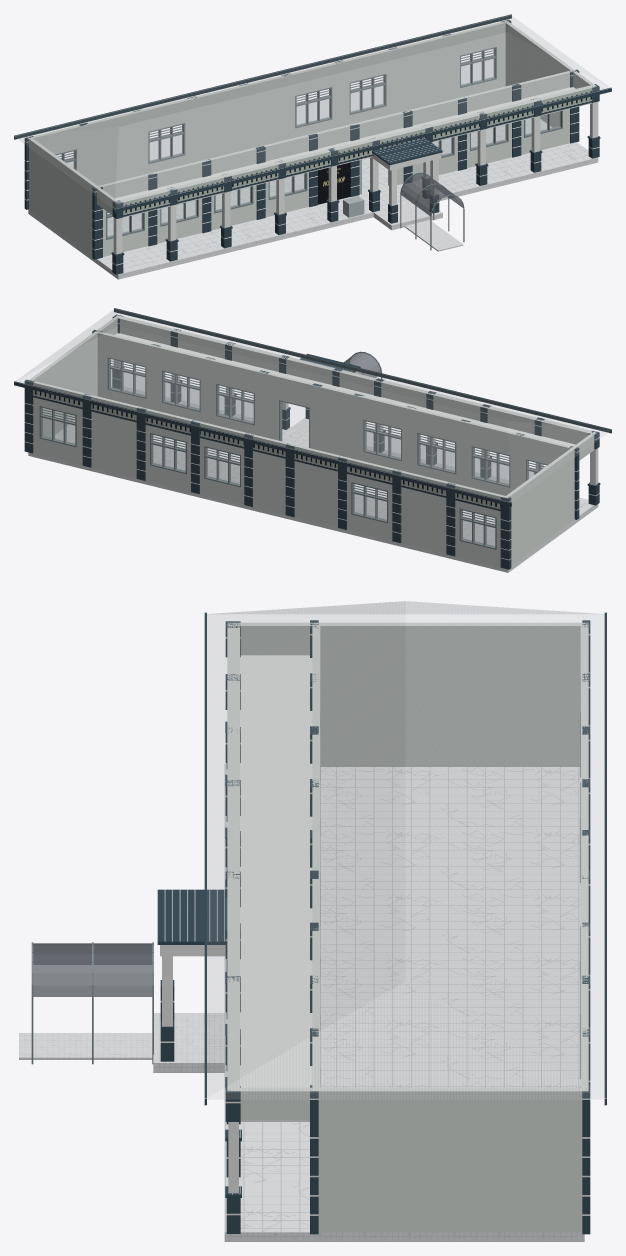
Rendered from gedung_lab_ulw_cutaway.glb.
3 renders of one model, top to bottom at view 1: azimuth 30°, elevation 25°; view 2: azimuth 150°, elevation 25°; view 3: azimuth 270°, elevation 25°, orthographic. The views are drawn at different scales.
Visible parts, largest first — view 1: Atap_Spandek_Abu_Terang, Dinding_Sage_Abu_ULW, Pilaster_Dan_Umpak_SlateBiru, Lantai_Marmer_Kosong_ULW, Tiang_Atas_Dan_Kanopi_Putih, Kusen_Jendela_Dan_Rangka_Pergola, Kaca_Jendela_Transparan, Lis_Ventilasi_Vertikal, Paranet_Terowongan_Taman, Papan_Granit_Hitam_WORKSHOP, Bangku_Beton_Teras; view 2: Dinding_Sage_Abu_ULW, Atap_Spandek_Abu_Terang, Pilaster_Dan_Umpak_SlateBiru, Kusen_Jendela_Dan_Rangka_Pergola, Lantai_Marmer_Kosong_ULW, Kaca_Jendela_Transparan, Lis_Ventilasi_Vertikal, Tiang_Atas_Dan_Kanopi_Putih, Paranet_Terowongan_Taman; view 3: Atap_Spandek_Abu_Terang, Lantai_Marmer_Kosong_ULW, Dinding_Sage_Abu_ULW, Tiang_Atas_Dan_Kanopi_Putih, Pilaster_Dan_Umpak_SlateBiru, Paranet_Terowongan_Taman, Kusen_Jendela_Dan_Rangka_Pergola.
Part boxes in pixels (<box>): Atap_Spandek_Abu_Terang: <box>16,16,609,208</box>; Dinding_Sage_Abu_ULW: <box>27,20,596,256</box>; Pilaster_Dan_Umpak_SlateBiru: <box>14,14,611,274</box>; Lantai_Marmer_Kosong_ULW: <box>28,118,598,279</box>; Tiang_Atas_Dan_Kanopi_Putih: <box>97,87,598,254</box>; Kusen_Jendela_Dan_Rangka_Pergola: <box>55,47,562,250</box>; Kaca_Jendela_Transparan: <box>67,58,560,237</box>; Lis_Ventilasi_Vertikal: <box>123,88,592,216</box>; Paranet_Terowongan_Taman: <box>401,173,462,215</box>; Papan_Granit_Hitam_WORKSHOP: <box>318,162,350,204</box>; Bangku_Beton_Teras: <box>343,196,364,217</box>; Dinding_Sage_Abu_ULW: <box>29,315,596,566</box>; Atap_Spandek_Abu_Terang: <box>17,309,610,502</box>; Pilaster_Dan_Umpak_SlateBiru: <box>14,308,611,569</box>; Kusen_Jendela_Dan_Rangka_Pergola: <box>39,351,547,549</box>; Lantai_Marmer_Kosong_ULW: <box>28,387,598,572</box>; Kaca_Jendela_Transparan: <box>42,369,536,546</box>; Lis_Ventilasi_Vertikal: <box>33,383,500,511</box>; Tiang_Atas_Dan_Kanopi_Putih: <box>113,333,598,484</box>; Paranet_Terowongan_Taman: <box>343,352,381,377</box>; Atap_Spandek_Abu_Terang: <box>207,601,604,1098</box>; Lantai_Marmer_Kosong_ULW: <box>19,763,584,1241</box>; Dinding_Sage_Abu_ULW: <box>227,622,588,1232</box>; Tiang_Atas_Dan_Kanopi_Putih: <box>160,655,312,1193</box>; Pilaster_Dan_Umpak_SlateBiru: <box>157,612,606,1234</box>; Paranet_Terowongan_Taman: <box>33,943,152,996</box>; Kusen_Jendela_Dan_Rangka_Pergola: <box>31,676,580,1087</box>.
Size of the model in its own units: 25.7 by 5.35 by 13.15.
11 materials, 5 textured.
